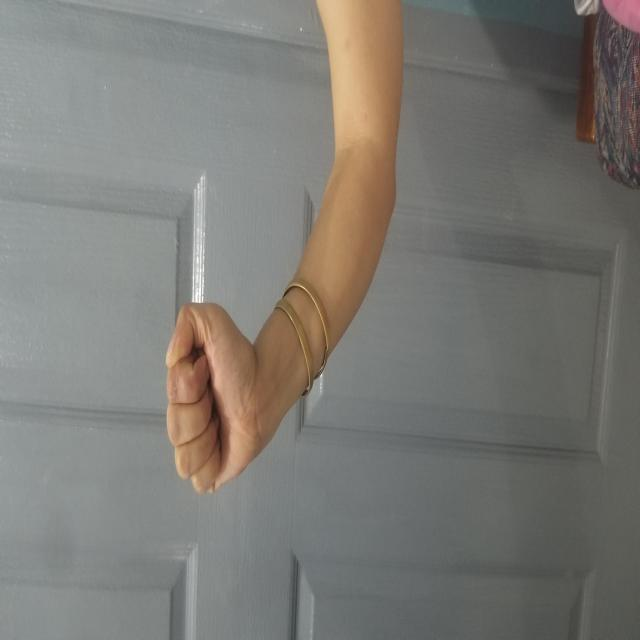A: (146, 163, 340, 256)
